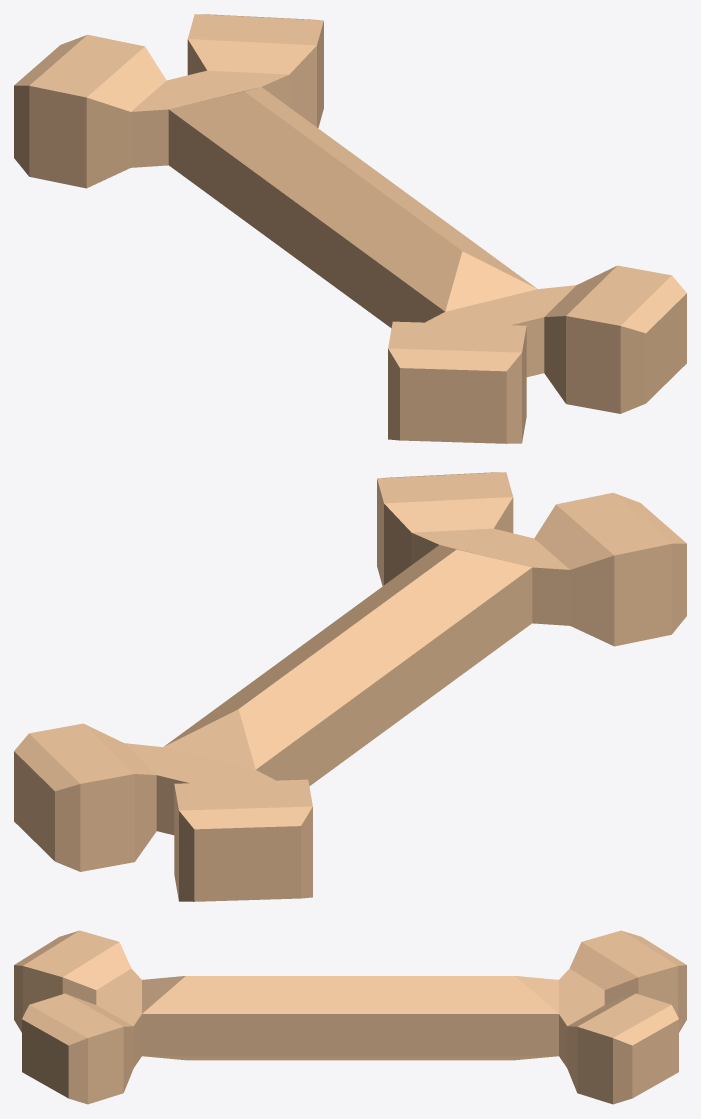
File: bone_poly.glb
3 views of the same model, one above another, from view 1: azimuth 30°, elevation 25°; view 2: azimuth 150°, elevation 25°; view 3: azimuth 270°, elevation 25° (orthographic). The views are drawn at different scales.
Visible parts, largest first — view 1: Node; view 2: Node; view 3: Node.
Part boxes in pixels (<box>): Node: <box>14,14,686,443</box>; Node: <box>14,472,686,901</box>; Node: <box>14,930,686,1104</box>.
Bounding box in the file's own units: 0.1231 × 0.0449 × 0.3244.
1 material, 1 textured.
